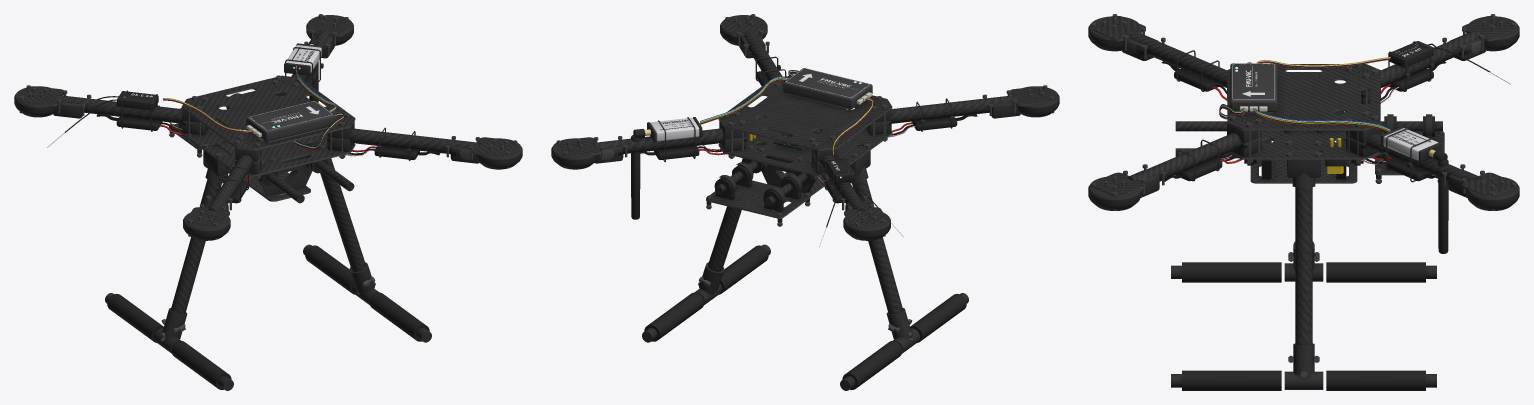
The model's file is x500_airframe_visual.glb.
3 renders of one model, left to right at view 1: azimuth 30°, elevation 25°; view 2: azimuth 150°, elevation 25°; view 3: azimuth 270°, elevation 25°, orthographic. The views are drawn at different scales.
Parts seen in each view (by area): view 1: x500_airframe; view 2: x500_airframe; view 3: x500_airframe.
Boxes of the visible parts, left/top/right/bottom form: x500_airframe: left=14, top=14, right=522, bottom=390; x500_airframe: left=551, top=14, right=1059, bottom=390; x500_airframe: left=1088, top=14, right=1519, bottom=390.
Bounding box in the file's own units: 0.4038 × 0.263 × 0.4038.
31 materials, 26 textured.
